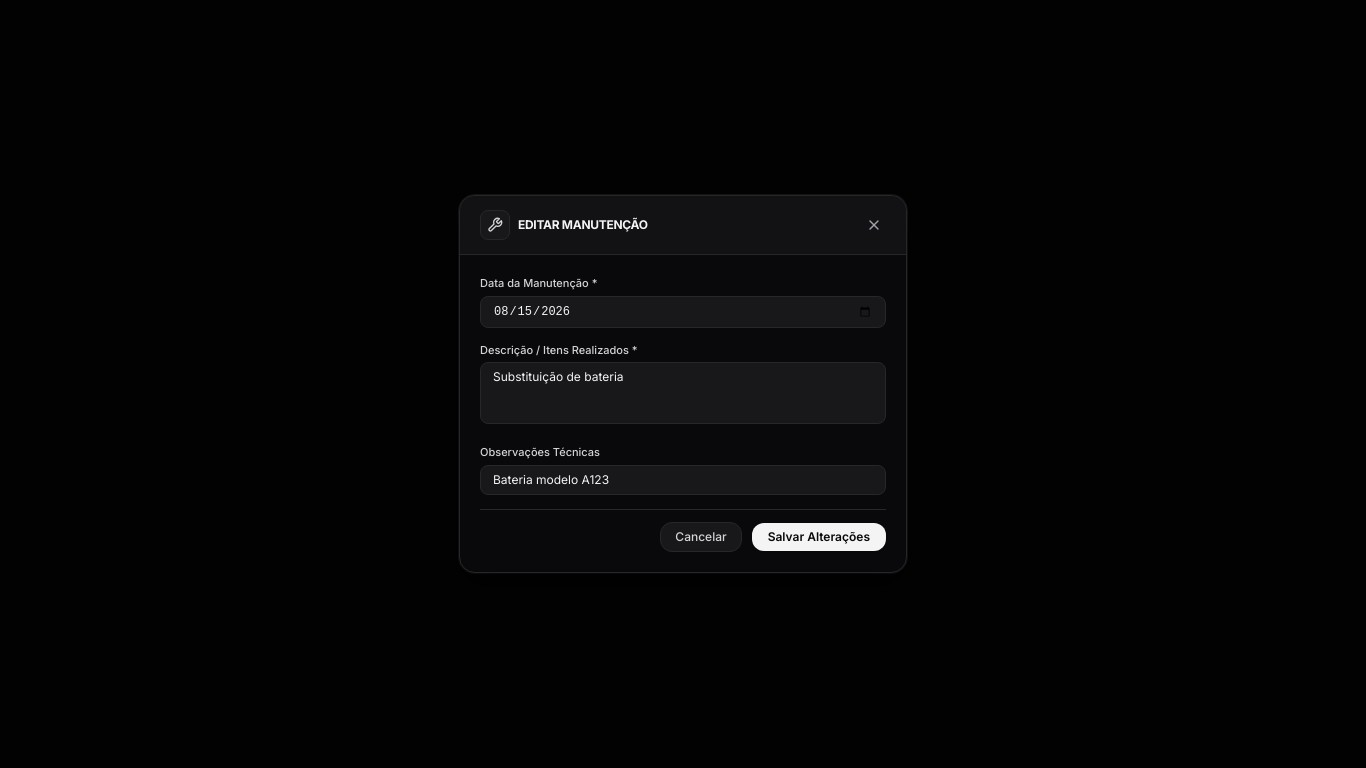
Test case: EditMaintenanceModal › exibe erro retornado pela API quando atualização falha
The width and height of the screenshot is (1366, 768).
Step 1. Click the button "Salvar Alterações" → (819, 537), box [752,523,886,551]
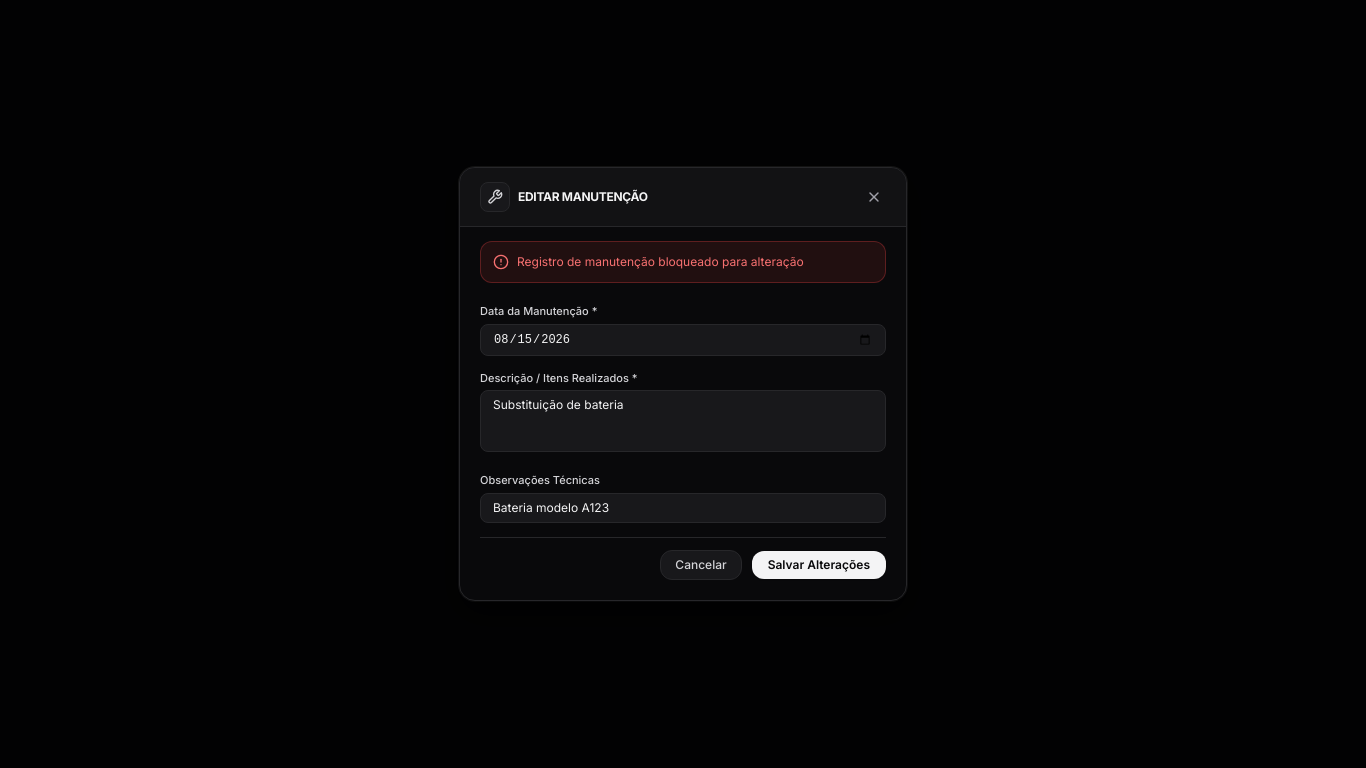
Check: the text "Registro de manutenção bloqueado para alteração" is shown, box [517,254,804,270]
